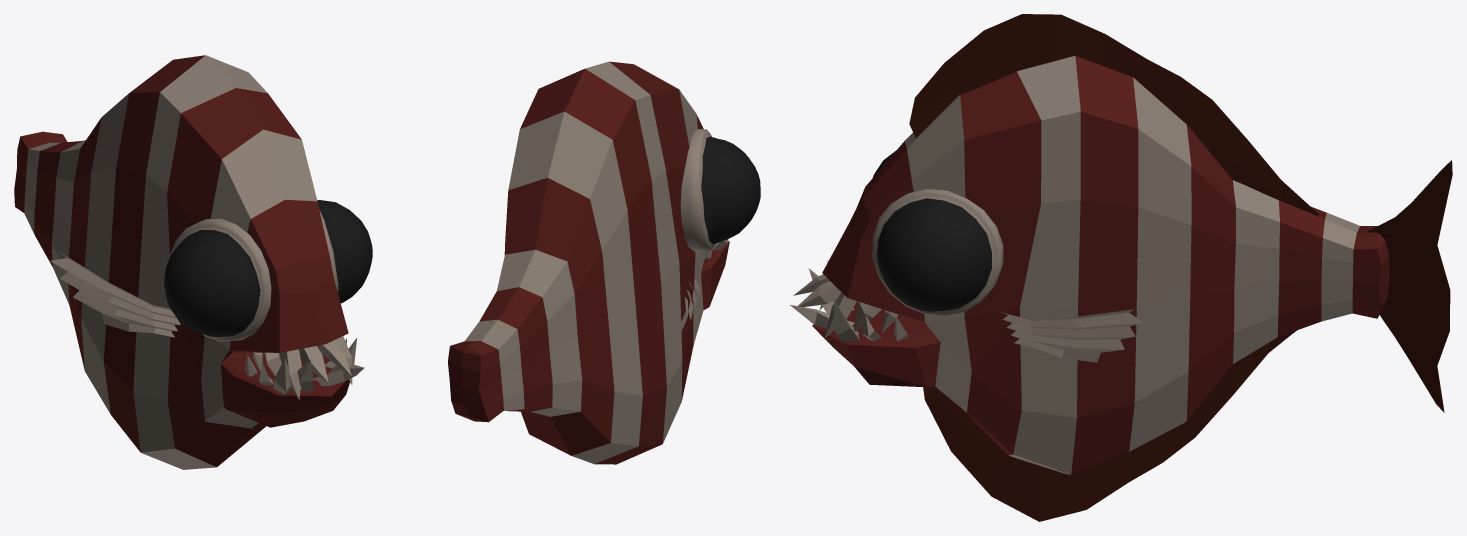
File: Flatfish.glb
The picture shows the model from 3 angles, left to right: view 1: azimuth 30°, elevation 25°; view 2: azimuth 150°, elevation 25°; view 3: azimuth 270°, elevation 25°; orthographic projection. The views are drawn at different scales.
Parts seen in each view (by area): view 1: Flatfish_Cube.119; view 2: Flatfish_Cube.119; view 3: Flatfish_Cube.119.
Boxes of the visible parts, x1,y1,x2,y2 form: Flatfish_Cube.119: (14, 55, 372, 469); Flatfish_Cube.119: (448, 61, 760, 464); Flatfish_Cube.119: (790, 14, 1452, 521).
Size of the model in its own units: 2.08 by 4.04 by 4.67.
